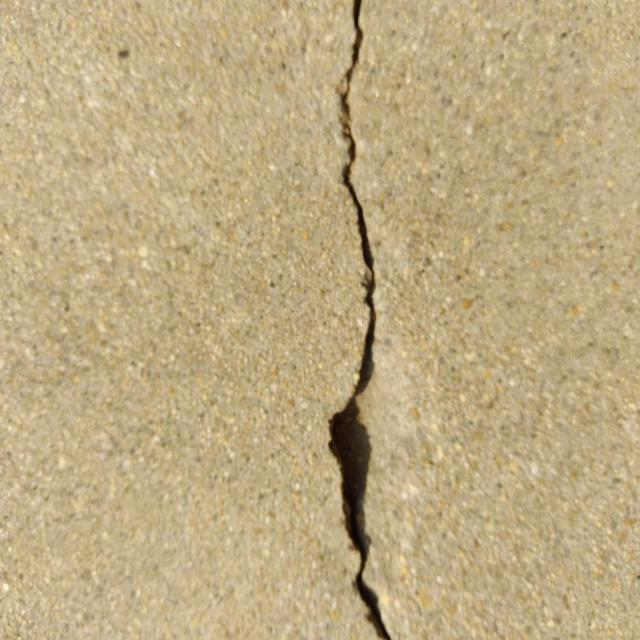vertical crack: (325, 0, 394, 639)
